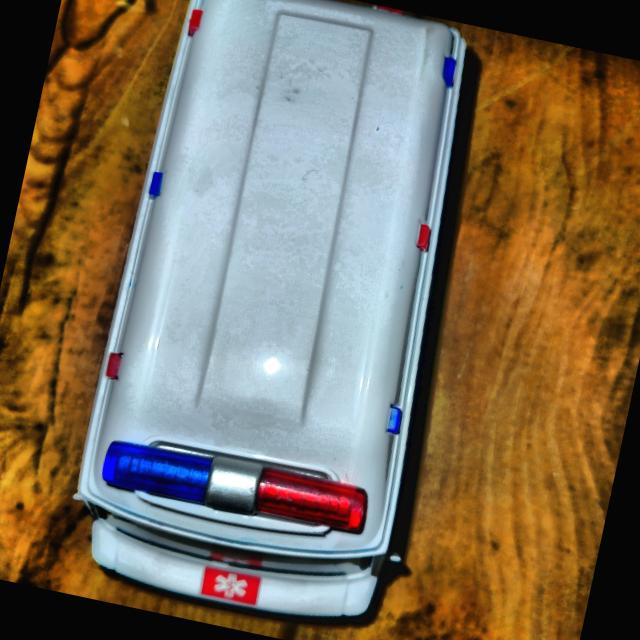Ambulance: (58, 0, 513, 639)
